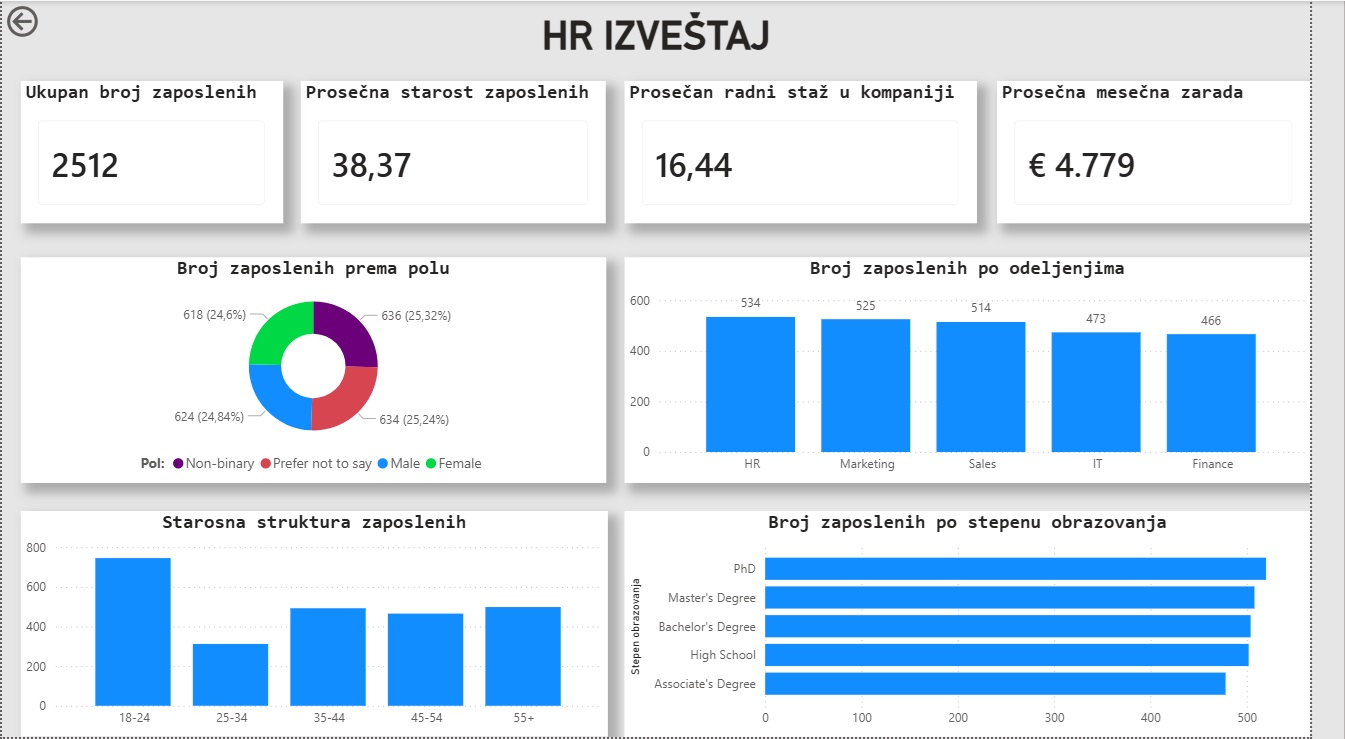

This screenshot's page, from the dashboard's own definition file:
{"tool":"powerbi","page":{"name":"Izvestaj","canvas":[1280,720],"ordinal":0},"visuals":[{"type":"cardVisual","title":"Prosečna starost zaposlenih","fields":{"Data":["Avg(HR_Dataset.Age)"]},"box":[292.3,78.3,298.4,139.4],"z":0},{"type":"textbox","title":"HR IZVEŠTAJ","box":[0,11.5,1279.7,46.2],"z":1000},{"type":"cardVisual","title":"Prosečan radni staž u kompaniji","fields":{"Data":["Avg(HR_Dataset.Years_At_Company)"]},"box":[609,78.3,344.8,139.4],"z":2000},{"type":"donutChart","title":"Broj zaposlenih prema polu","fields":{"Category":["HR_Dataset.Gender"],"Y":["CountNonNull(HR_Dataset.Gender)"]},"box":[18.8,251,572.8,220.7],"z":3000},{"type":"cardVisual","title":"Ukupan broj zaposlenih ","fields":{"Data":["Count(HR_Dataset.Employee_ID)"]},"box":[18.3,78.3,256.8,139.4],"z":4000},{"type":"cardVisual","title":"Prosečna mesečna zarada ","fields":{"Data":["Avg(HR_Dataset.Monthly_Income)"]},"box":[973.4,78.3,306.9,139.4],"z":5000},{"type":"columnChart","title":"Broj zaposlenih po odeljenjima","fields":{"Category":["HR_Dataset.Department"],"Y":["CountNonNull(HR_Dataset.Employee_ID)"]},"box":[608.8,251,670.9,220.7],"z":6000},{"type":"columnChart","title":"Starosna struktura zaposlenih","fields":{"Category":["HR_Dataset.Age group"],"Y":["CountNonNull(HR_Dataset.Employee_ID)"]},"box":[18.8,499.2,574.2,220.7],"z":7000},{"type":"barChart","title":"Broj zaposlenih po stepenu obrazovanja","fields":{"Category":["HR_Dataset.Education_Level"],"Y":["CountNonNull(HR_Dataset.Employee_ID)"]},"box":[609,499,671,221],"z":8000},{"type":"actionButton","box":[0,0,100,40],"z":9000}]}

Visuals, with their boxes in screenshot pixels (x1, y1, x2, y2), scaled from the page's 1280x720 canvas onto the 1345x739 screenshot:
"Prosečna starost zaposlenih" cardVisual: (x1=307, y1=80, x2=621, y2=223)
"HR IZVEŠTAJ" textbox: (x1=0, y1=12, x2=1344, y2=59)
"Prosečan radni staž u kompaniji" cardVisual: (x1=640, y1=80, x2=1002, y2=223)
"Broj zaposlenih prema polu" donutChart: (x1=20, y1=258, x2=622, y2=484)
"Ukupan broj zaposlenih " cardVisual: (x1=19, y1=80, x2=289, y2=223)
"Prosečna mesečna zarada " cardVisual: (x1=1023, y1=80, x2=1344, y2=223)
"Broj zaposlenih po odeljenjima" columnChart: (x1=640, y1=258, x2=1344, y2=484)
"Starosna struktura zaposlenih" columnChart: (x1=20, y1=512, x2=623, y2=738)
"Broj zaposlenih po stepenu obrazovanja" barChart: (x1=640, y1=512, x2=1344, y2=738)
actionButton: (x1=0, y1=0, x2=105, y2=41)
